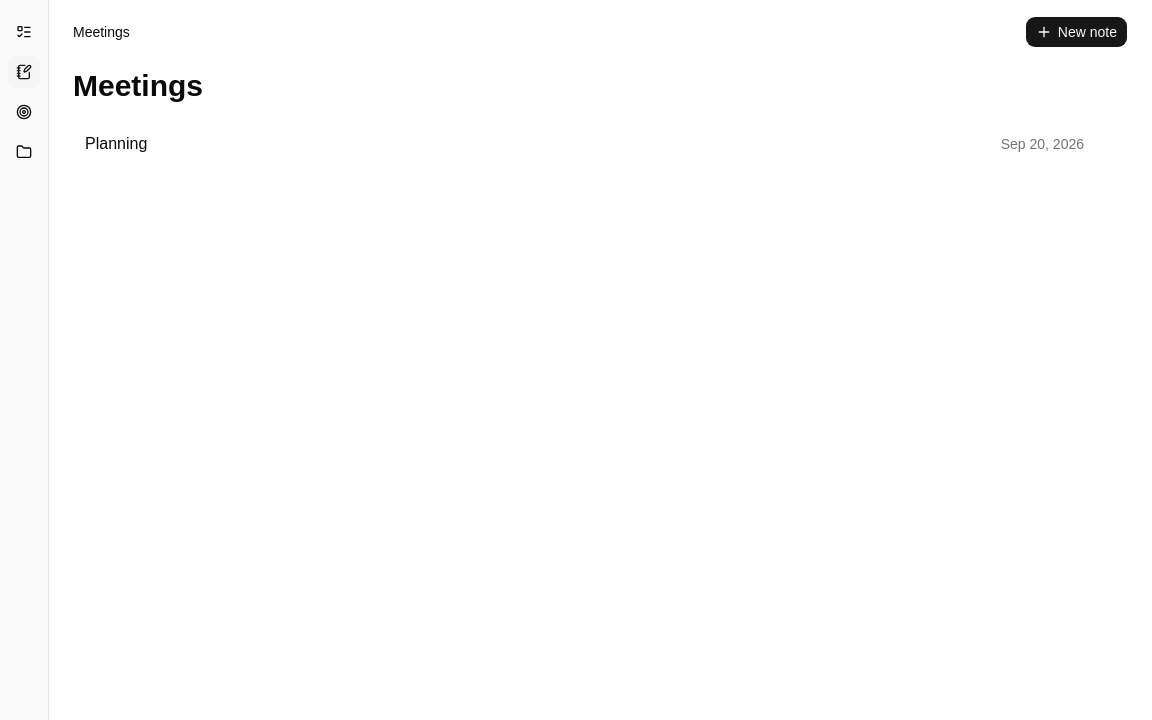
Take meeting notes › shows stored Markdown as formatted notes when opening a meeting
The width and height of the screenshot is (1152, 720).
Click the link "Planning Sep 20, 2026": (116, 144) 85,135 -> 1084,152
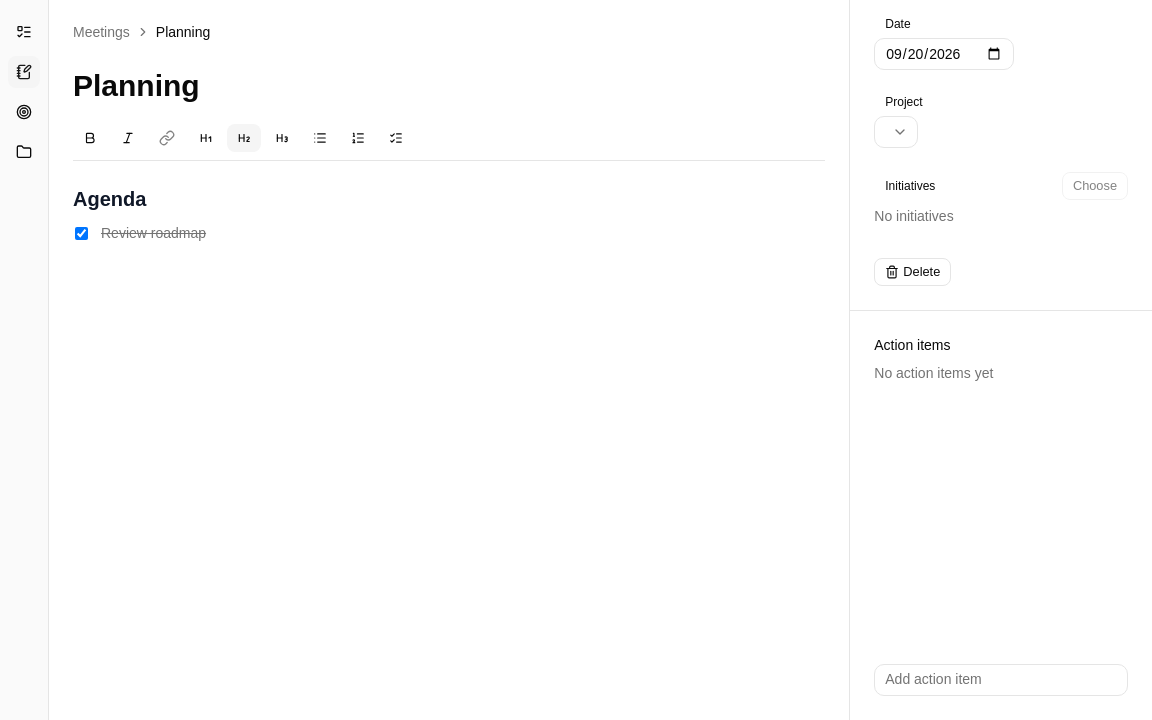
Now the heading "Agenda" is shown, box 73,188 -> 146,210
Now the checkbox is checked, box 75,226 -> 88,240
Now the field named "Notes" shows "Review roadmap", box 73,188 -> 325,252
